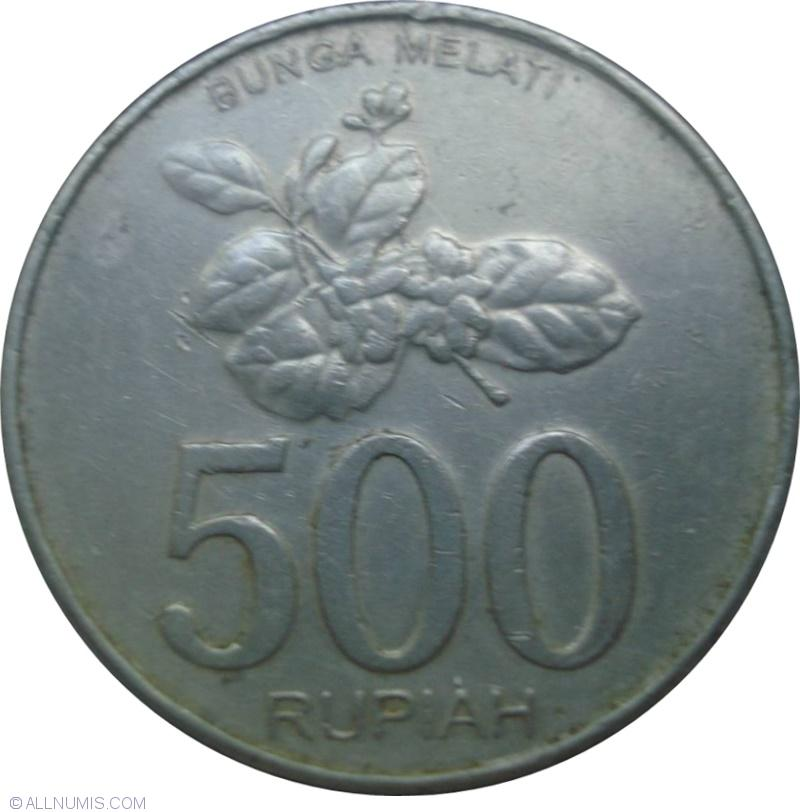coin_500_e2003: (0, 0, 800, 795)
